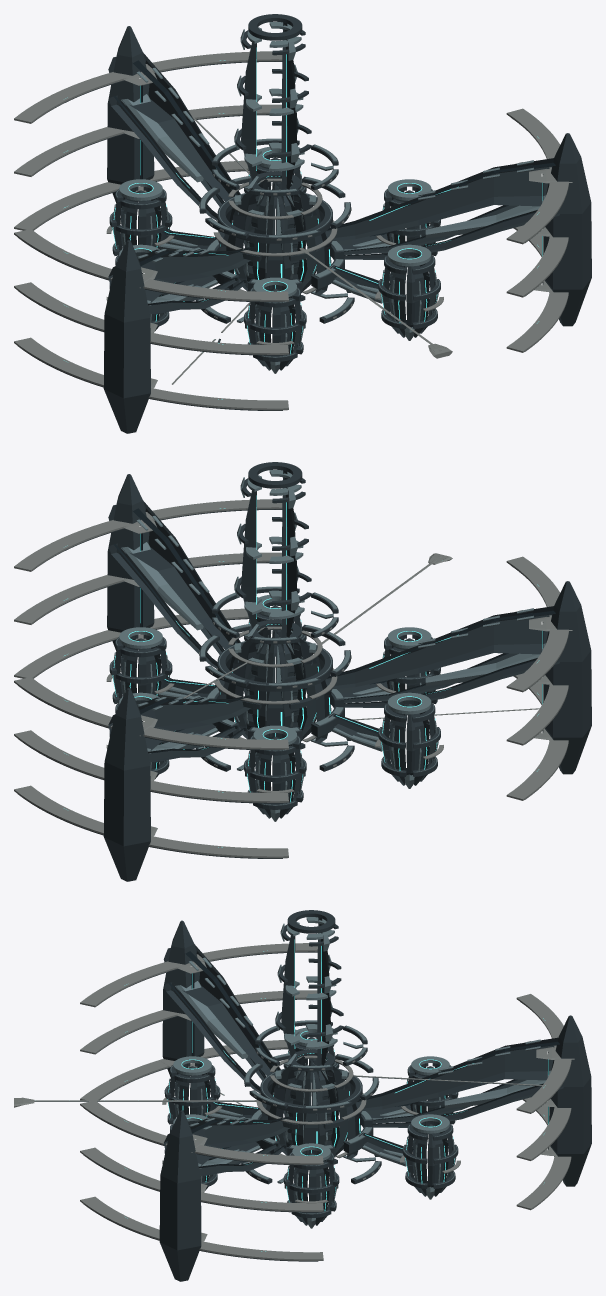
The model's file is Main_Reactor_Architecture.glb.
The picture shows the model from 3 angles, top to bottom: view 1: azimuth 30°, elevation 25°; view 2: azimuth 150°, elevation 25°; view 3: azimuth 270°, elevation 25°; orthographic projection. The views are drawn at different scales.
Visible parts, largest first — view 1: Anchor 2 | embedded alien stele, B3 | sweeping suspension monolith, Anchor 3 | embedded alien stele, Anchor 1 | embedded alien stele, B1 | sweeping suspension monolith, L3 | wall terrace 2, L3 | wall terrace 1, L1 | wall terrace 2, L2 | wall terrace 2, B2 | sweeping suspension monolith, L3 | wall terrace 3, L2 | wall terrace 1 (+26 smaller); view 2: Anchor 1 | embedded alien stele, B2 | sweeping suspension monolith, Anchor 2 | embedded alien stele, Anchor 3 | embedded alien stele, B3 | sweeping suspension monolith, L3 | wall terrace 1, L3 | wall terrace 3, L1 | wall terrace 1, L2 | wall terrace 1, B1 | sweeping suspension monolith, L3 | wall terrace 2, L2 | wall terrace 3 (+27 smaller); view 3: Anchor 3 | embedded alien stele, B1 | sweeping suspension monolith, Anchor 1 | embedded alien stele, Anchor 2 | embedded alien stele, B2 | sweeping suspension monolith, L3 | wall terrace 3, L3 | wall terrace 2, L2 | wall terrace 3, L1 | wall terrace 3, B3 | sweeping suspension monolith, L3 | wall terrace 1, L2 | wall terrace 2 (+25 smaller).
Part boxes in pixels (box(x1,y1,x2,y2)): Anchor 2 | embedded alien stele: box(103, 240, 150, 433); B3 | sweeping suspension monolith: box(325, 158, 553, 240); Anchor 3 | embedded alien stele: box(544, 133, 591, 326); Anchor 1 | embedded alien stele: box(107, 26, 154, 207); B1 | sweeping suspension monolith: box(108, 52, 240, 206); L3 | wall terrace 2: box(14, 229, 288, 301); L3 | wall terrace 1: box(14, 51, 282, 123); L1 | wall terrace 2: box(14, 337, 288, 410); L2 | wall terrace 2: box(14, 282, 288, 354); B2 | sweeping suspension monolith: box(108, 247, 256, 302); L3 | wall terrace 3: box(506, 108, 568, 244); L2 | wall terrace 1: box(14, 104, 281, 176); Anchor 1 | embedded alien stele: box(103, 688, 150, 881); B2 | sweeping suspension monolith: box(325, 606, 553, 688); Anchor 2 | embedded alien stele: box(544, 581, 591, 774); Anchor 3 | embedded alien stele: box(107, 474, 154, 655); B3 | sweeping suspension monolith: box(108, 500, 240, 654); L3 | wall terrace 1: box(14, 677, 288, 749); L3 | wall terrace 3: box(14, 499, 282, 571); L1 | wall terrace 1: box(14, 785, 288, 858); L2 | wall terrace 1: box(14, 730, 288, 802); B1 | sweeping suspension monolith: box(108, 695, 256, 750); L3 | wall terrace 2: box(506, 556, 568, 692); L2 | wall terrace 3: box(14, 552, 281, 624); Anchor 3 | embedded alien stele: box(159, 1110, 201, 1281); B1 | sweeping suspension monolith: box(355, 1037, 558, 1111); Anchor 1 | embedded alien stele: box(549, 1015, 591, 1186); Anchor 2 | embedded alien stele: box(162, 920, 204, 1081); B2 | sweeping suspension monolith: box(163, 944, 280, 1080); L3 | wall terrace 3: box(80, 1100, 323, 1164); L3 | wall terrace 2: box(80, 943, 317, 1007); L2 | wall terrace 3: box(80, 1147, 323, 1211); L1 | wall terrace 3: box(80, 1196, 323, 1260); B3 | sweeping suspension monolith: box(164, 1116, 295, 1165); L3 | wall terrace 1: box(516, 994, 571, 1113); L2 | wall terrace 2: box(80, 990, 317, 1054).
Size of the model in its own units: 5008 by 2798 by 5555.
